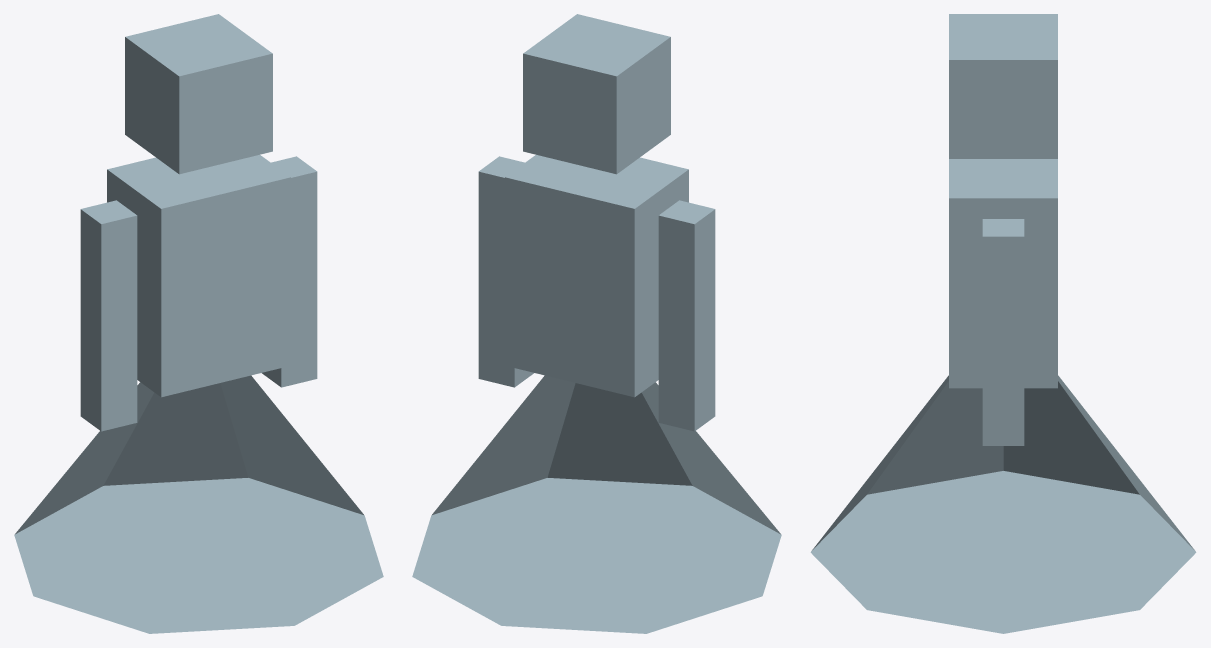
Rendered from VillagerFemale.glb.
The picture shows the model from 3 angles, left to right: view 1: azimuth 30°, elevation 25°; view 2: azimuth 150°, elevation 25°; view 3: azimuth 270°, elevation 25°; orthographic projection.
Visible parts, largest first — view 1: filler_VillagerFemale; view 2: filler_VillagerFemale; view 3: filler_VillagerFemale.
Boxes of the visible parts, x1=… form: filler_VillagerFemale: x1=14, y1=14, x2=383, y2=633; filler_VillagerFemale: x1=412, y1=14, x2=781, y2=633; filler_VillagerFemale: x1=810, y1=14, x2=1196, y2=633.
Size of the model in its own units: 0.92 by 1.35 by 0.92.
